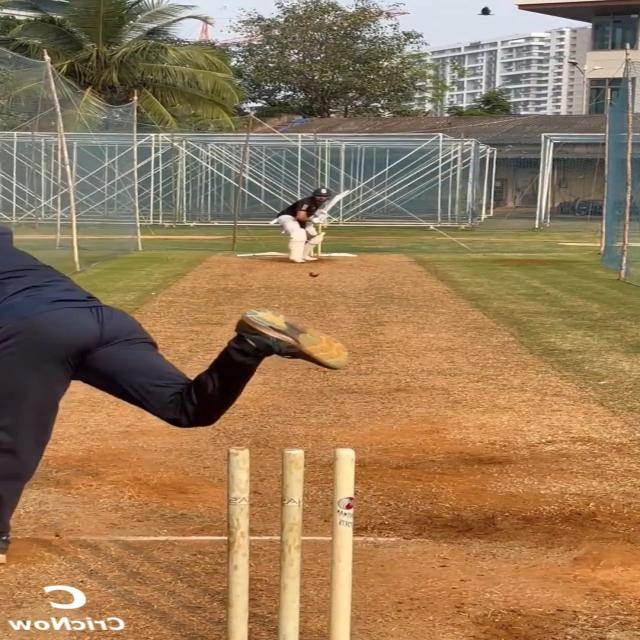ball: (308, 272, 320, 278)
stump: (221, 444, 361, 640)
